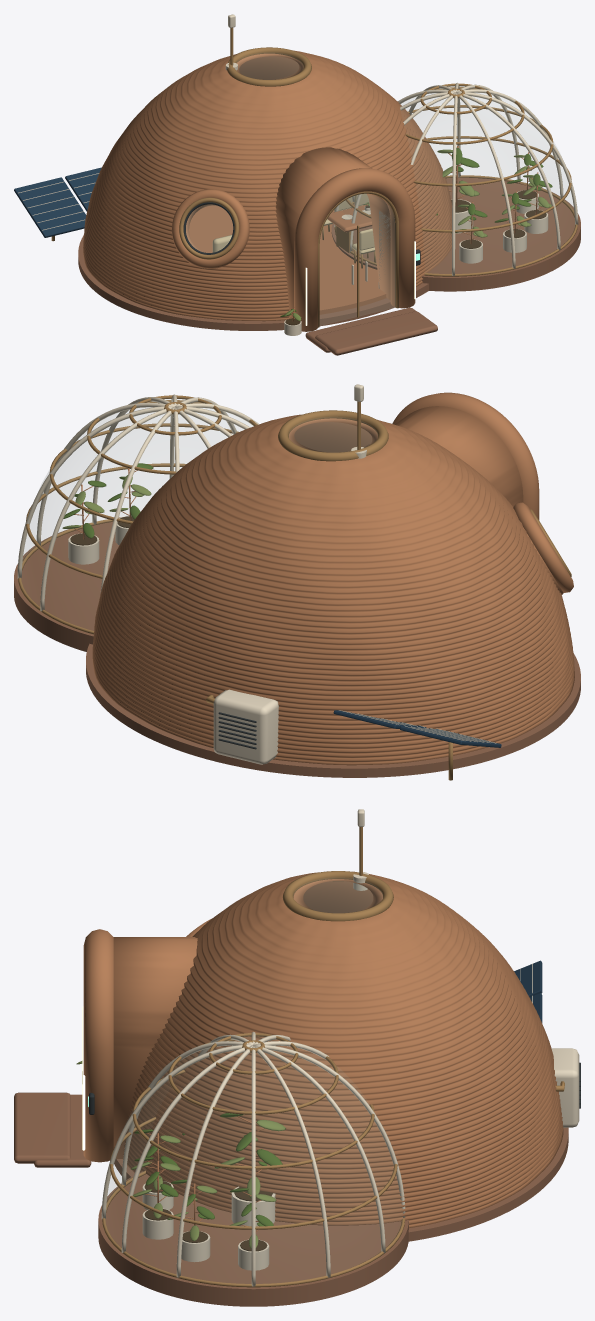
The model's file is 02-greenhouse-home.glb.
3 renders of one model, top to bottom at view 1: azimuth 30°, elevation 25°; view 2: azimuth 150°, elevation 25°; view 3: azimuth 270°, elevation 25°, orthographic. The views are drawn at different scales.
Parts seen in each view (by area): view 1: Shell / Regolith | printed clay, Glazing / Glazing | transparent blue-grey, Foundation / Foundation | baked regolith, Frames / Frames | satin bronze, Frames / Equipment | warm ceramic, Interior / Furniture | warm composite, Equipment / Solar | dark blue cells, Garden / Equipment | warm ceramic, Garden / Garden | sage leaves, Garden / Garden | olive leaves, Interior / Upholstery | flax, Garden / Garden | growing medium (+4 smaller); view 2: Shell / Regolith | printed clay, Foundation / Foundation | baked regolith, Glazing / Glazing | transparent blue-grey, Frames / Equipment | warm ceramic, Frames / Frames | satin bronze, Equipment / Equipment | warm ceramic, Equipment / Solar | dark blue cells, Garden / Equipment | warm ceramic, Equipment / Seals | graphite, Garden / Garden | sage leaves, Garden / Garden | olive leaves; view 3: Shell / Regolith | printed clay, Foundation / Foundation | baked regolith, Frames / Equipment | warm ceramic, Frames / Frames | satin bronze, Glazing / Glazing | transparent blue-grey, Garden / Equipment | warm ceramic, Equipment / Equipment | warm ceramic, Garden / Garden | olive leaves, Garden / Garden | sage leaves, Equipment / Solar | dark blue cells, Garden / Garden | growing medium.
Part boxes in pixels (x1,y1,x2,y2): Shell / Regolith | printed clay: (83,50,452,331); Glazing / Glazing | transparent blue-grey: (186,56,573,325); Foundation / Foundation | baked regolith: (78,177,580,355); Frames / Frames | satin bronze: (179,47,577,327); Frames / Equipment | warm ceramic: (334,82,578,288); Interior / Furniture | warm composite: (189,203,386,314); Equipment / Solar | dark blue cells: (14,167,101,237); Garden / Equipment | warm ceramic: (284,190,548,335); Garden / Garden | sage leaves: (284,149,551,320); Garden / Garden | olive leaves: (280,147,552,316); Interior / Upholstery | flax: (212,193,375,254); Garden / Garden | growing medium: (285,190,546,325); Shell / Regolith | printed clay: (92,392,574,765); Foundation / Foundation | baked regolith: (14,521,580,777); Glazing / Glazing | transparent blue-grey: (23,399,371,560); Frames / Equipment | warm ceramic: (17,394,258,611); Frames / Frames | satin bronze: (18,395,571,634); Equipment / Equipment | warm ceramic: (213,384,496,764); Equipment / Solar | dark blue cells: (333,710,501,747); Garden / Equipment | warm ceramic: (68,516,128,564); Equipment / Seals | graphite: (218,712,256,749); Garden / Garden | sage leaves: (62,474,151,528); Garden / Garden | olive leaves: (63,463,153,538); Shell / Regolith | printed clay: (83,871,563,1227); Foundation / Foundation | baked regolith: (14,1092,568,1306); Frames / Equipment | warm ceramic: (101,1031,405,1286); Frames / Frames | satin bronze: (102,871,404,1287); Glazing / Glazing | transparent blue-grey: (107,881,372,1202); Garden / Equipment | warm ceramic: (82,1071,275,1270); Equipment / Equipment | warm ceramic: (353,809,579,1127); Garden / Garden | olive leaves: (134,1113,282,1226); Garden / Garden | sage leaves: (76,1061,285,1248); Equipment / Solar | dark blue cells: (514,960,542,1022); Garden / Garden | growing medium: (144,1181,272,1251).
Bounding box in the file's own units: 11.57 × 6 × 9.91.
Materials: 14 (1 with a texture image).
